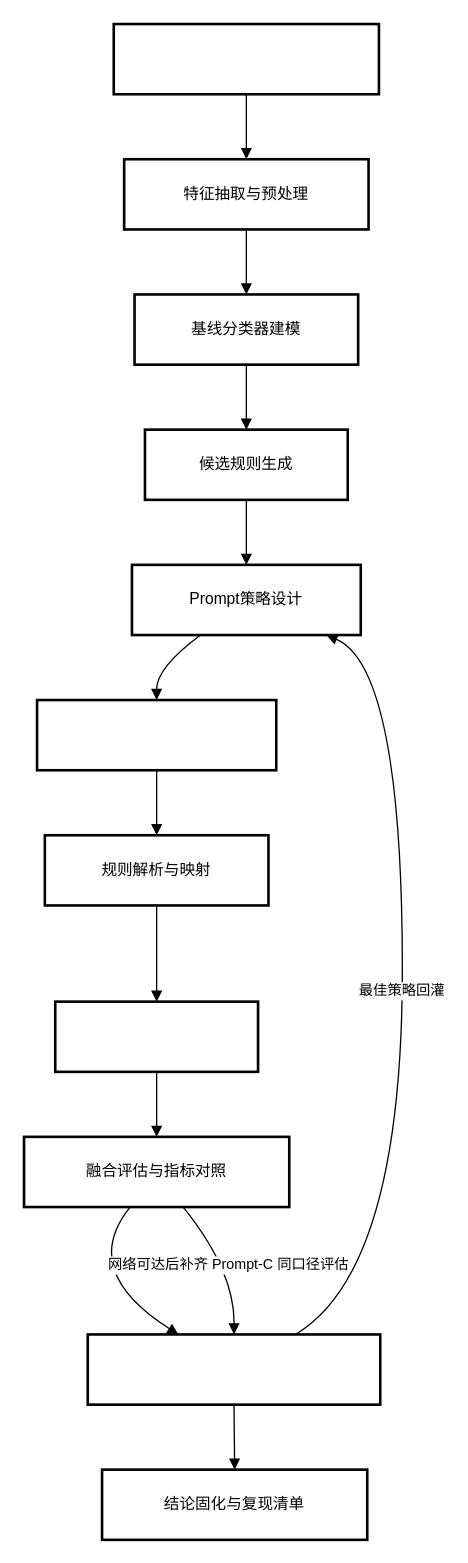
This 468x1563 diagram has some shape labels left out. Each missing label, with the centre of its shape:
LLM生成决策策略: the point at 156,734
Prompt版本迭代 A/B/C: the point at 233,1368
任务定义与数据对齐: the point at 246,58
误差修正训练: the point at 156,1036
